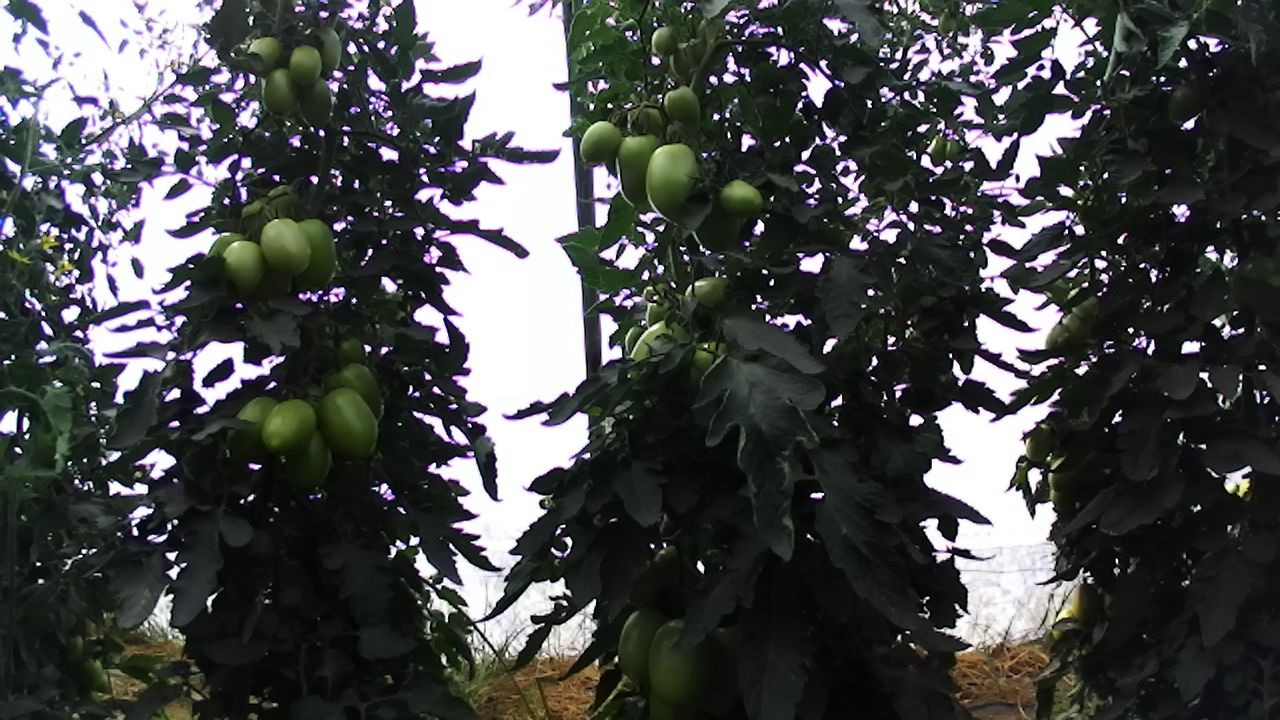tomato: (645, 615, 719, 706), (643, 140, 716, 232), (315, 386, 385, 461), (609, 601, 670, 686), (320, 359, 389, 426), (285, 214, 343, 293), (609, 130, 663, 209), (280, 423, 337, 495), (260, 398, 320, 458), (257, 214, 312, 276), (219, 237, 270, 295), (711, 176, 773, 220), (660, 82, 707, 133), (260, 62, 302, 117), (576, 118, 623, 167), (239, 32, 289, 74), (301, 72, 336, 131), (306, 20, 342, 73), (289, 41, 324, 85), (648, 23, 681, 58)
